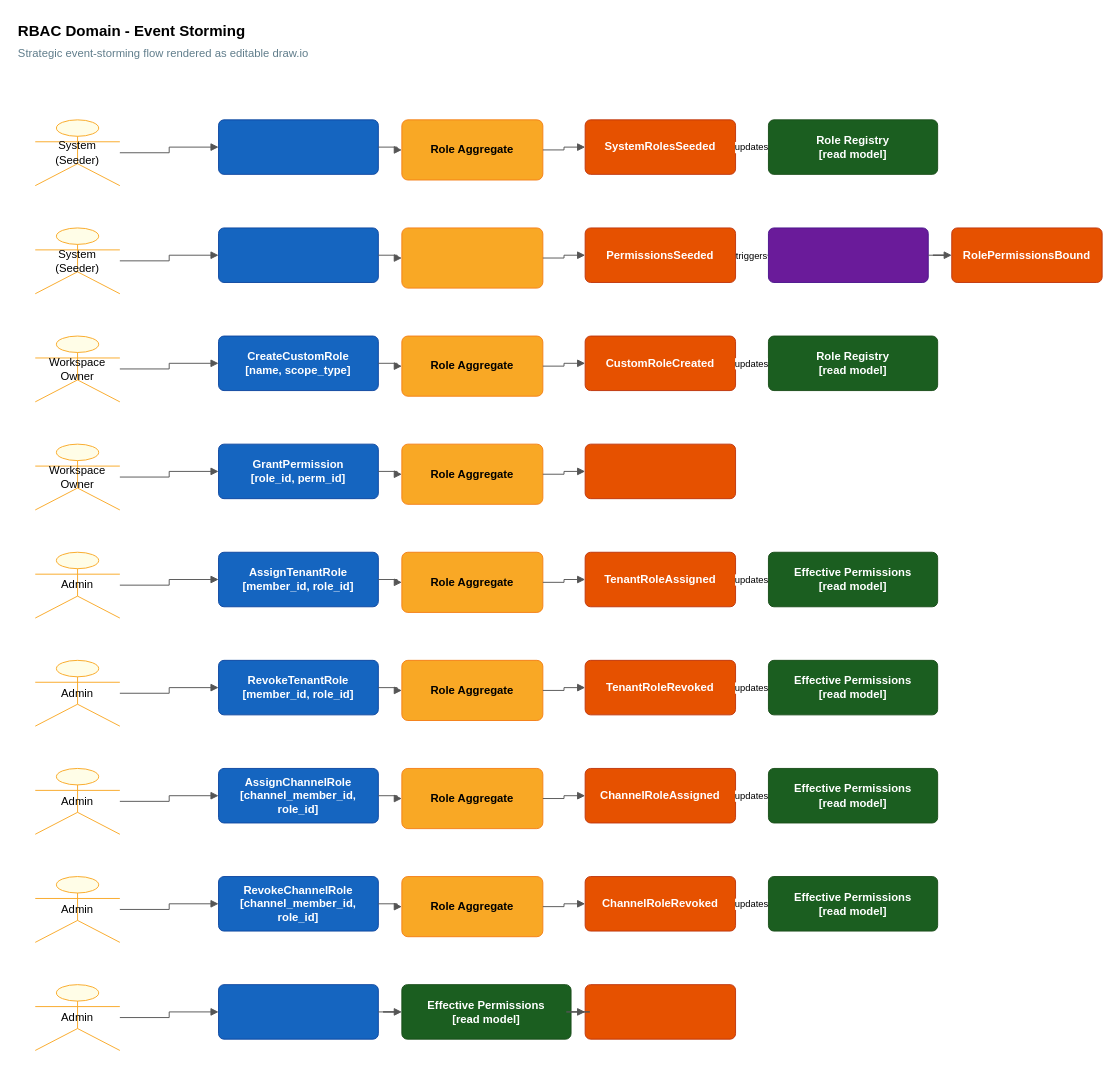
Some shapes in this 1119 by 1067 pixel diagram are drawn without their labels. Here are the shapes that lost their labels. From the top down, the centre of each, then its label:
the point at 298,146: SeedSystemRoles [owner, admin, member]
the point at 298,254: SeedPermissions [tenant.*, channel.*]
the point at 472,257: Permission Aggregate
the point at 848,254: BindDefaultPermissions
the point at 660,471: PermissionGranted
the point at 298,1011: CheckPermission [user_id, resource, action]
the point at 660,1011: PermissionChecked (allowed | denied)
